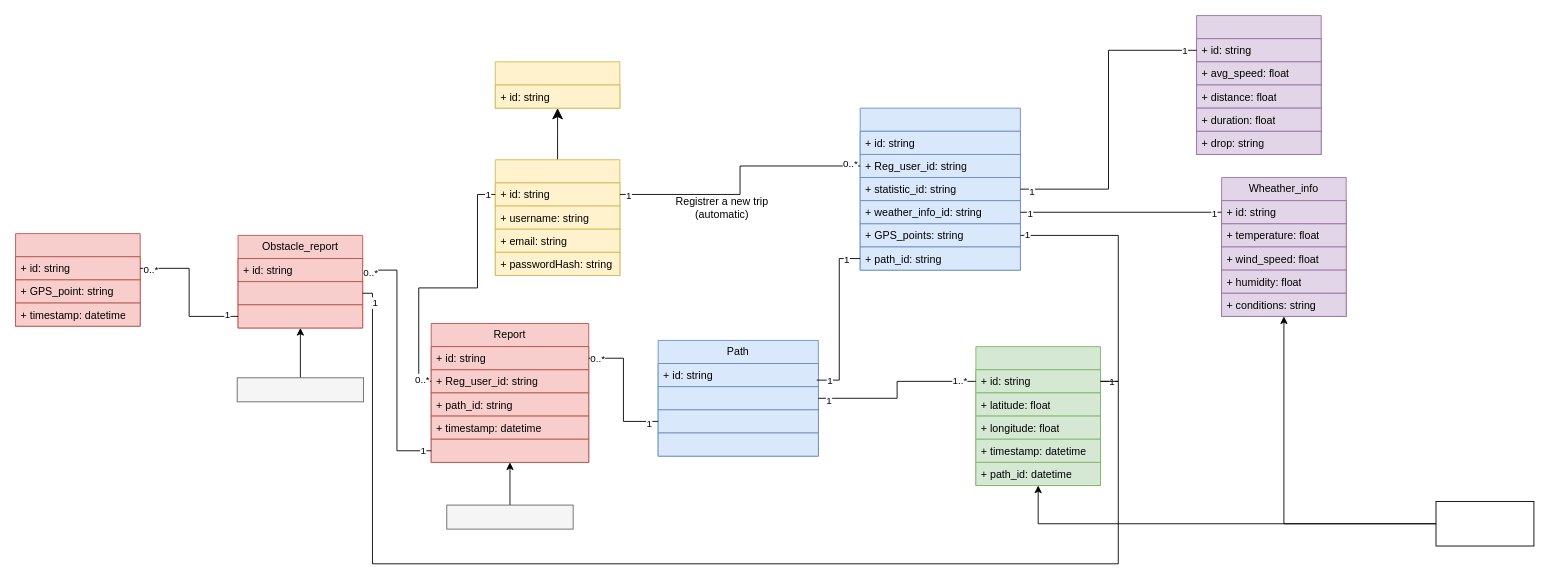
This 1549x580 diagram has some shape labels left out. The shapes that lost their labels are listed below. From the top down, each one's box as (x1, y1, x2, y2) in pixels, then its label:
(494, 61, 620, 108): User
(1196, 15, 1321, 154): Statistic
(859, 107, 1020, 270): Trip
(494, 159, 620, 275): Registred_user
(15, 233, 140, 326): sensor_event
(237, 281, 363, 305): + GPS_id: string
(237, 304, 363, 328): + sensor_id: string
(236, 377, 364, 402): <<Enum>> type
(657, 386, 818, 410): + track_coordinates_ids: string
(657, 409, 818, 433): + reports_id: string
(975, 346, 1100, 485): GPS_points
(430, 438, 589, 462): + Obstacle_report_id: string
(657, 432, 818, 456): + status: string
(446, 504, 573, 529): <<Enum>> status
(1435, 501, 1534, 546): External tools
